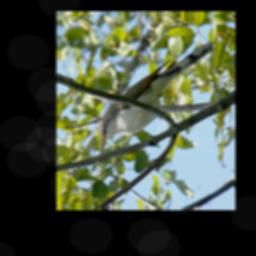Cuckoo: (98, 36, 215, 155)
